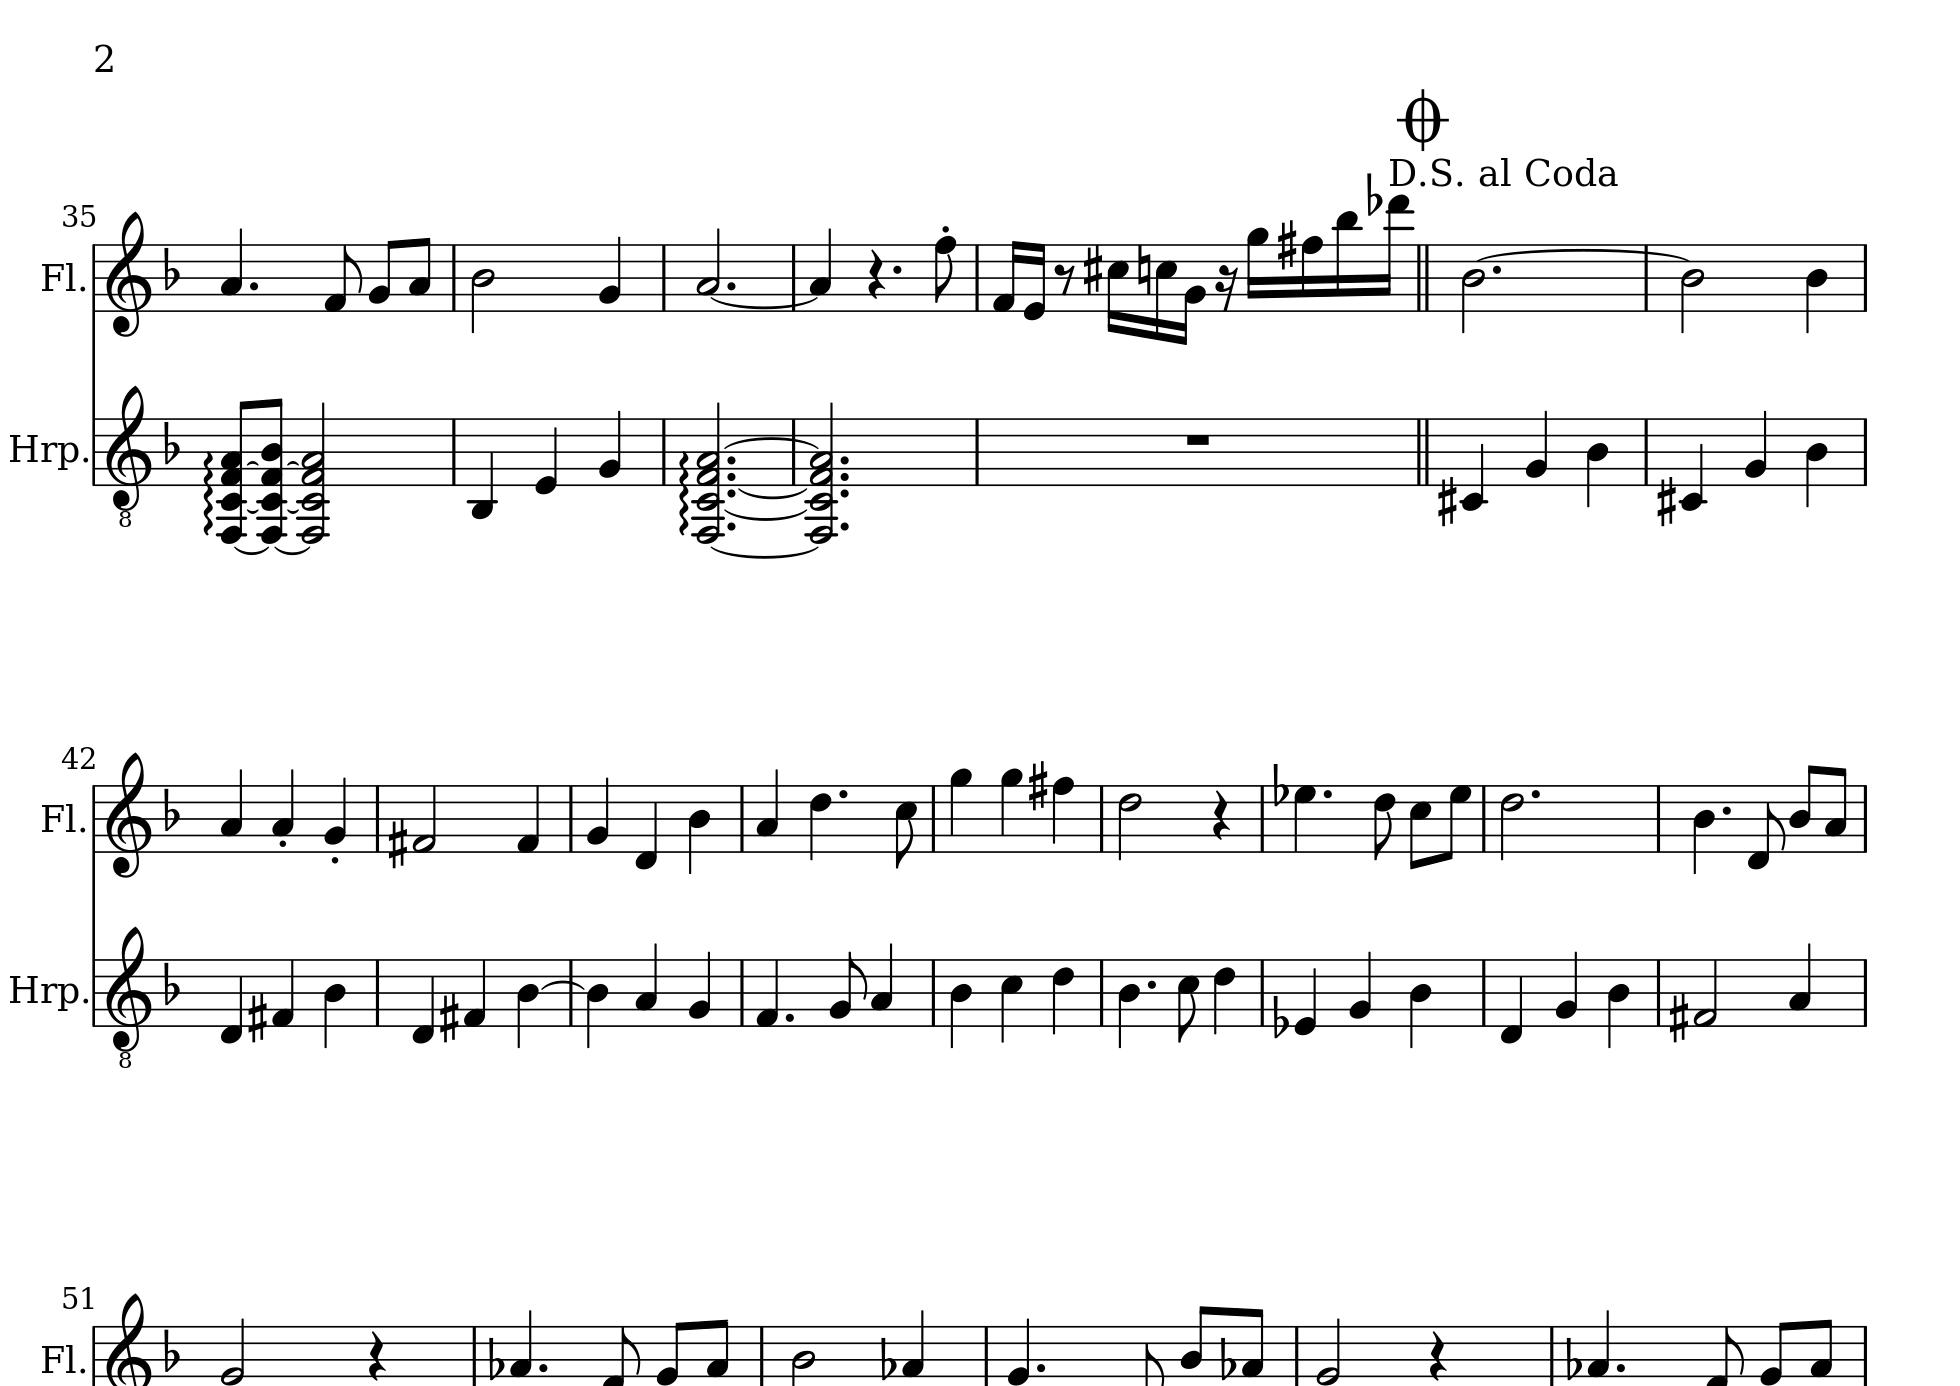1: (79, 1282, 94, 1312)
16_0: (1023, 240, 1047, 322)
16_1: (990, 238, 1021, 313)
16_11: (1333, 208, 1362, 313)
16_13: (1380, 195, 1413, 313)
16_2: (1179, 241, 1206, 346)
16_5: (1155, 240, 1177, 343), (1105, 241, 1129, 336)
16_8: (1300, 234, 1323, 313)
16_9: (1245, 226, 1269, 313)
2: (91, 40, 115, 73), (78, 744, 96, 769)
2_1: (1692, 955, 1719, 1027), (411, 781, 438, 852)
2_3: (694, 226, 721, 312)
2_4: (1680, 241, 1707, 333), (469, 241, 495, 334), (1461, 241, 1486, 334)
2_4th: (693, 394, 721, 547), (298, 402, 327, 547), (808, 400, 835, 546)
2_6: (1117, 781, 1143, 859), (1500, 783, 1524, 861)
3: (60, 202, 79, 228)
4: (61, 744, 78, 769)
4_-1: (217, 955, 244, 1048), (631, 781, 658, 871), (409, 955, 436, 1045), (1500, 955, 1525, 1045)
4_-2: (1461, 415, 1488, 511), (1680, 415, 1707, 511)
4_-3: (469, 415, 496, 520)
4_0: (1294, 957, 1320, 1039), (534, 415, 559, 496)
4_1: (514, 783, 541, 853), (462, 955, 487, 1027), (754, 955, 780, 1027), (271, 955, 295, 1027)
4_2: (1524, 406, 1551, 487), (1743, 406, 1770, 487), (1554, 949, 1581, 1027), (598, 408, 624, 487), (585, 774, 610, 853), (322, 775, 348, 853), (687, 949, 712, 1027), (1348, 949, 1374, 1027), (598, 234, 622, 313)
4_3: (1788, 940, 1815, 1027), (219, 226, 244, 312), (219, 766, 244, 852), (870, 942, 895, 1027), (754, 769, 780, 853), (634, 940, 658, 1027), (271, 766, 295, 852), (808, 226, 832, 310)
4_4: (1804, 241, 1830, 334), (585, 957, 610, 1048), (1408, 957, 1434, 1048), (1585, 415, 1609, 508), (1804, 415, 1828, 508), (1692, 783, 1716, 876), (1606, 957, 1630, 1050), (687, 783, 711, 874), (322, 957, 346, 1048), (949, 957, 973, 1048), (516, 957, 538, 1048), (1117, 958, 1140, 1048)
4_5: (999, 957, 1024, 1045)
4_6: (808, 783, 832, 864), (1051, 955, 1075, 1036), (1213, 957, 1236, 1035)
4_7: (1293, 784, 1317, 853)
4_8: (1051, 774, 1077, 855)
4_9: (948, 766, 973, 853), (999, 765, 1023, 853)
5: (79, 201, 97, 229), (61, 1282, 79, 1311)
8_-1: (1746, 783, 1785, 871)
8_1: (322, 243, 363, 313)
8_2: (828, 949, 867, 1027), (367, 238, 397, 312)
8_3: (1824, 765, 1848, 853), (406, 235, 432, 313)
8_4: (1788, 762, 1821, 853)
8_4th: (216, 394, 256, 544), (258, 397, 286, 544)
8_5: (1407, 781, 1432, 871), (892, 783, 918, 870), (1176, 955, 1200, 1042)
8_6: (1371, 783, 1396, 862)
8_7: (1441, 783, 1473, 859)
8_8: (931, 232, 957, 313)
Arpeggio: (199, 451, 217, 538), (673, 451, 690, 535)
Coda: (1398, 87, 1447, 151)
DSalcoda: (1387, 154, 1614, 193)
Double_barline: (1413, 241, 1434, 312), (1411, 417, 1432, 484)
Fl: (37, 259, 78, 295), (37, 799, 78, 835), (39, 1341, 76, 1375)
Flat: (160, 244, 181, 292), (160, 418, 181, 466), (160, 1326, 181, 1374), (160, 960, 181, 1006), (162, 784, 181, 832), (1218, 1333, 1236, 1381), (1272, 993, 1290, 1039), (1564, 1335, 1582, 1381), (1365, 171, 1383, 216), (1272, 762, 1288, 808), (487, 1335, 504, 1381), (879, 1335, 895, 1381)
Gclef: (103, 208, 151, 339), (105, 751, 153, 880)
Hrp: (7, 970, 81, 1014), (7, 430, 79, 472)
Lower_Gclef: (103, 924, 153, 1069), (103, 382, 151, 529)
Natural: (1135, 241, 1152, 295)
Rests1: (1182, 429, 1215, 448)
Rests16: (1215, 262, 1239, 312)
Rests4: (1425, 1327, 1450, 1381), (366, 1327, 388, 1381), (865, 247, 886, 301), (1212, 789, 1231, 843)
Rests8: (1054, 261, 1077, 295)
Sharp: (436, 991, 460, 1044), (1081, 243, 1104, 297), (246, 991, 268, 1045), (385, 817, 408, 868), (1276, 217, 1297, 271), (1437, 474, 1458, 526), (1656, 474, 1677, 526), (1668, 991, 1689, 1044), (1029, 757, 1048, 811)
Single_barline: (784, 243, 802, 310), (1857, 958, 1875, 1026), (1476, 784, 1494, 850), (924, 958, 942, 1024), (87, 957, 103, 1026), (87, 243, 103, 310), (967, 243, 984, 310), (1857, 243, 1873, 310), (87, 417, 103, 484), (1857, 784, 1873, 852), (445, 244, 462, 310), (655, 244, 672, 310), (1638, 244, 1654, 310), (969, 418, 985, 484), (1857, 418, 1873, 484), (562, 784, 579, 850), (369, 784, 385, 850), (733, 784, 750, 850), (1254, 784, 1270, 850), (1650, 784, 1666, 850), (369, 958, 385, 1024), (733, 958, 750, 1024), (1255, 958, 1272, 1024), (1650, 958, 1666, 1024), (753, 1324, 771, 1384), (87, 784, 102, 853), (655, 418, 670, 484), (787, 418, 802, 484), (1638, 418, 1653, 484), (925, 784, 940, 850), (1095, 784, 1110, 850), (1095, 958, 1110, 1024), (1477, 958, 1492, 1024), (978, 1326, 994, 1384), (466, 1324, 481, 1386), (87, 1324, 102, 1384), (1290, 1324, 1305, 1384), (1545, 1326, 1560, 1386), (447, 418, 460, 484), (1860, 1326, 1873, 1386)
Slur: (709, 297, 820, 309), (709, 546, 817, 558), (723, 436, 826, 448), (723, 508, 808, 520), (735, 487, 810, 499), (540, 978, 585, 991), (273, 544, 310, 555), (232, 546, 270, 555), (285, 460, 301, 466)
dot: (1719, 802, 1734, 817), (838, 519, 853, 532), (835, 786, 849, 801), (1528, 786, 1542, 801), (1144, 976, 1158, 991), (535, 1360, 550, 1374), (1033, 1360, 1048, 1374), (838, 486, 852, 499), (783, 1009, 796, 1023), (1491, 262, 1503, 277), (247, 277, 259, 292), (724, 277, 736, 292), (838, 451, 850, 466), (1614, 1360, 1629, 1372), (891, 262, 903, 276), (838, 469, 852, 481), (724, 469, 738, 481), (724, 486, 738, 498), (724, 520, 738, 532), (1320, 787, 1333, 799), (724, 454, 736, 465)
